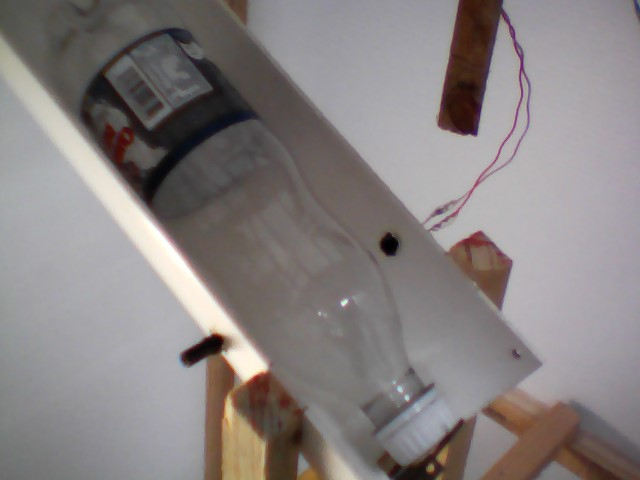plastico: (40, 1, 459, 461)
